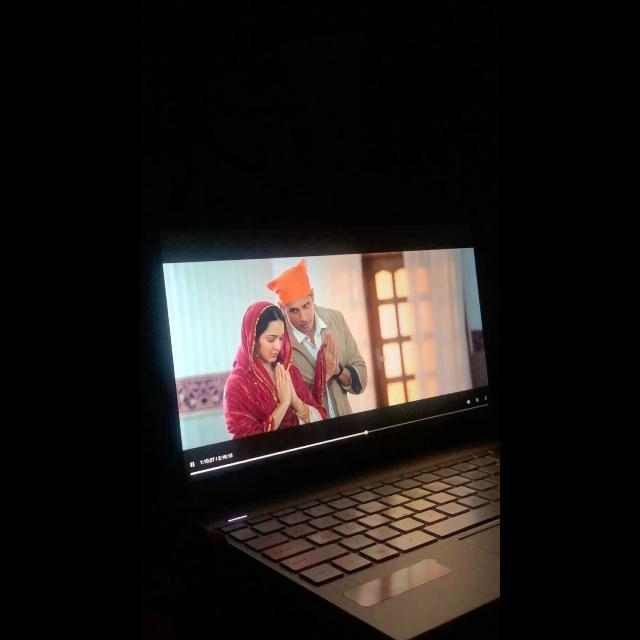laptop: (155, 228, 500, 640)
